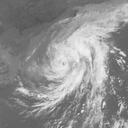cyclone: (37, 34, 106, 104)
